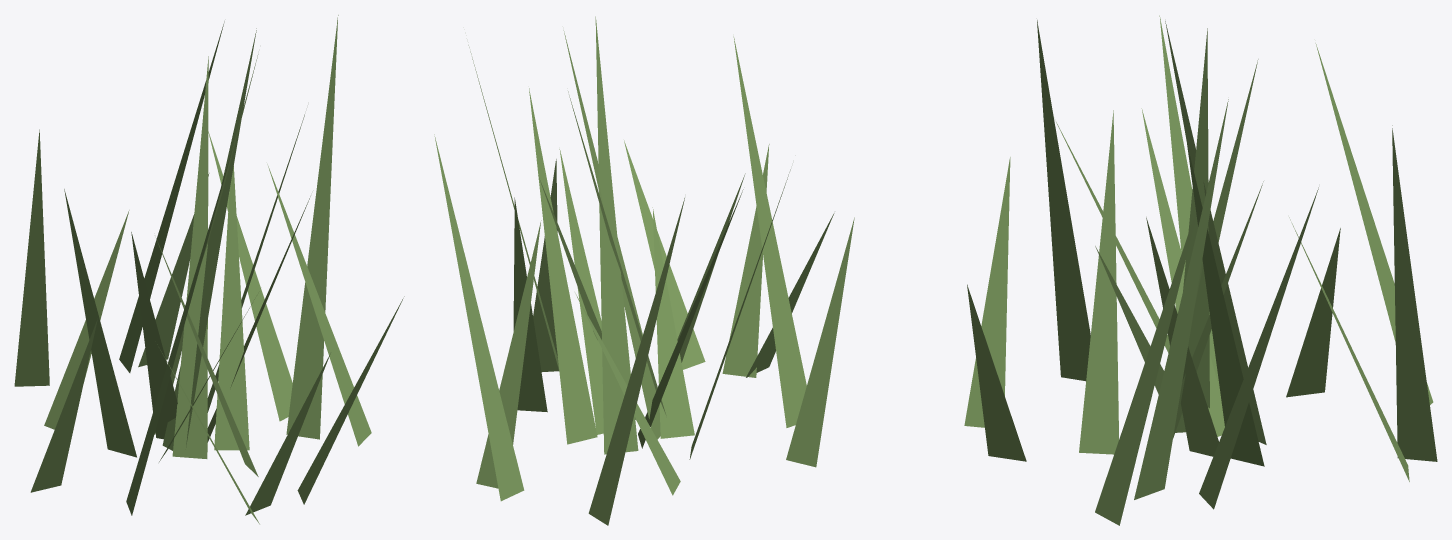
File: SM_GrassTuft.fbx
3 views of the same model, side by side, from view 1: azimuth 30°, elevation 25°; view 2: azimuth 150°, elevation 25°; view 3: azimuth 270°, elevation 25° (orthographic). The views are drawn at different scales.
Visible parts, largest first — view 1: SM_GrassTuft; view 2: SM_GrassTuft; view 3: SM_GrassTuft.
Boxes of the visible parts, x1=… form: SM_GrassTuft: x1=14, y1=15, x2=404, y2=524; SM_GrassTuft: x1=434, y1=16, x2=854, y2=525; SM_GrassTuft: x1=964, y1=15, x2=1437, y2=525.
Size of the model in its own units: 64.75 by 74.3 by 81.61.
